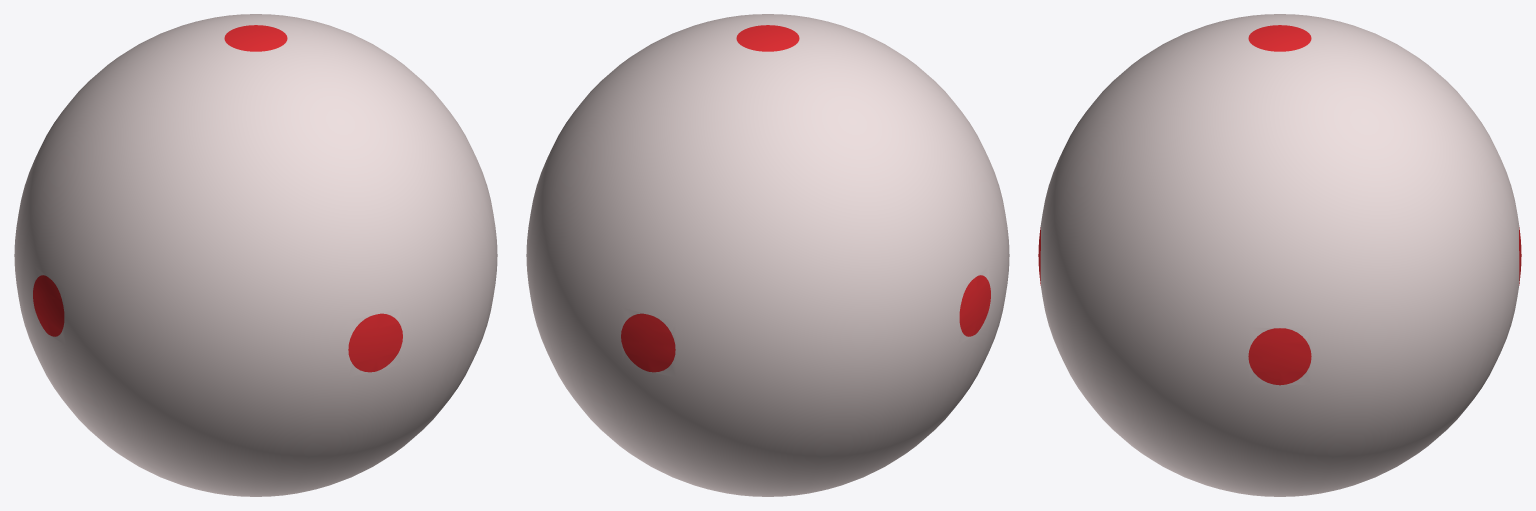
File: cueBall.glb
3 views of the same model, side by side, from view 1: azimuth 30°, elevation 25°; view 2: azimuth 150°, elevation 25°; view 3: azimuth 270°, elevation 25° (orthographic).
Visible parts, largest first — view 1: Sphere; view 2: Sphere; view 3: Sphere.
Part boxes in pixels (<box>): Sphere: <box>14,14,497,496</box>; Sphere: <box>526,14,1009,496</box>; Sphere: <box>1038,14,1521,496</box>.
Bounding box in the file's own units: 0.127 × 0.127 × 0.127.
